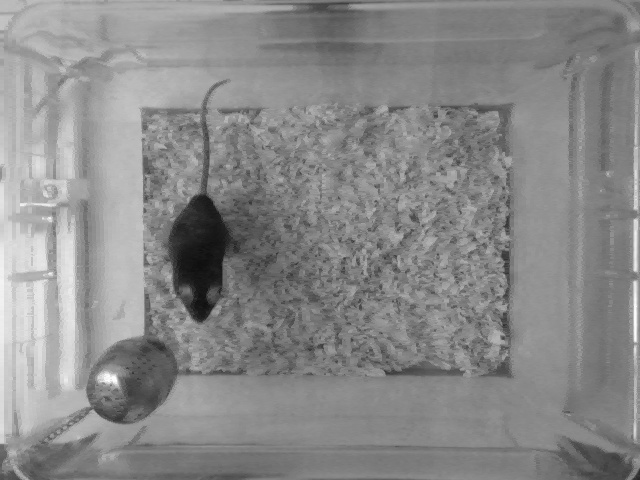mice: (166, 71, 245, 330)
